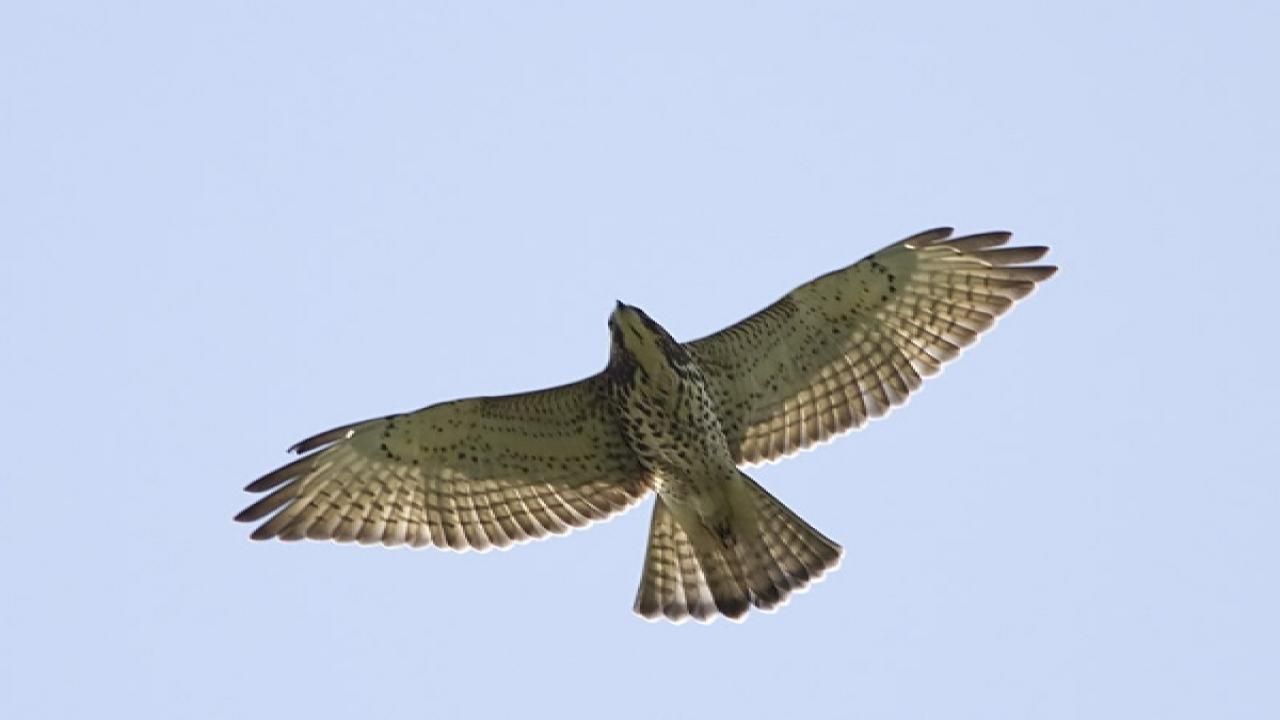Bird: (221, 218, 1076, 630)
